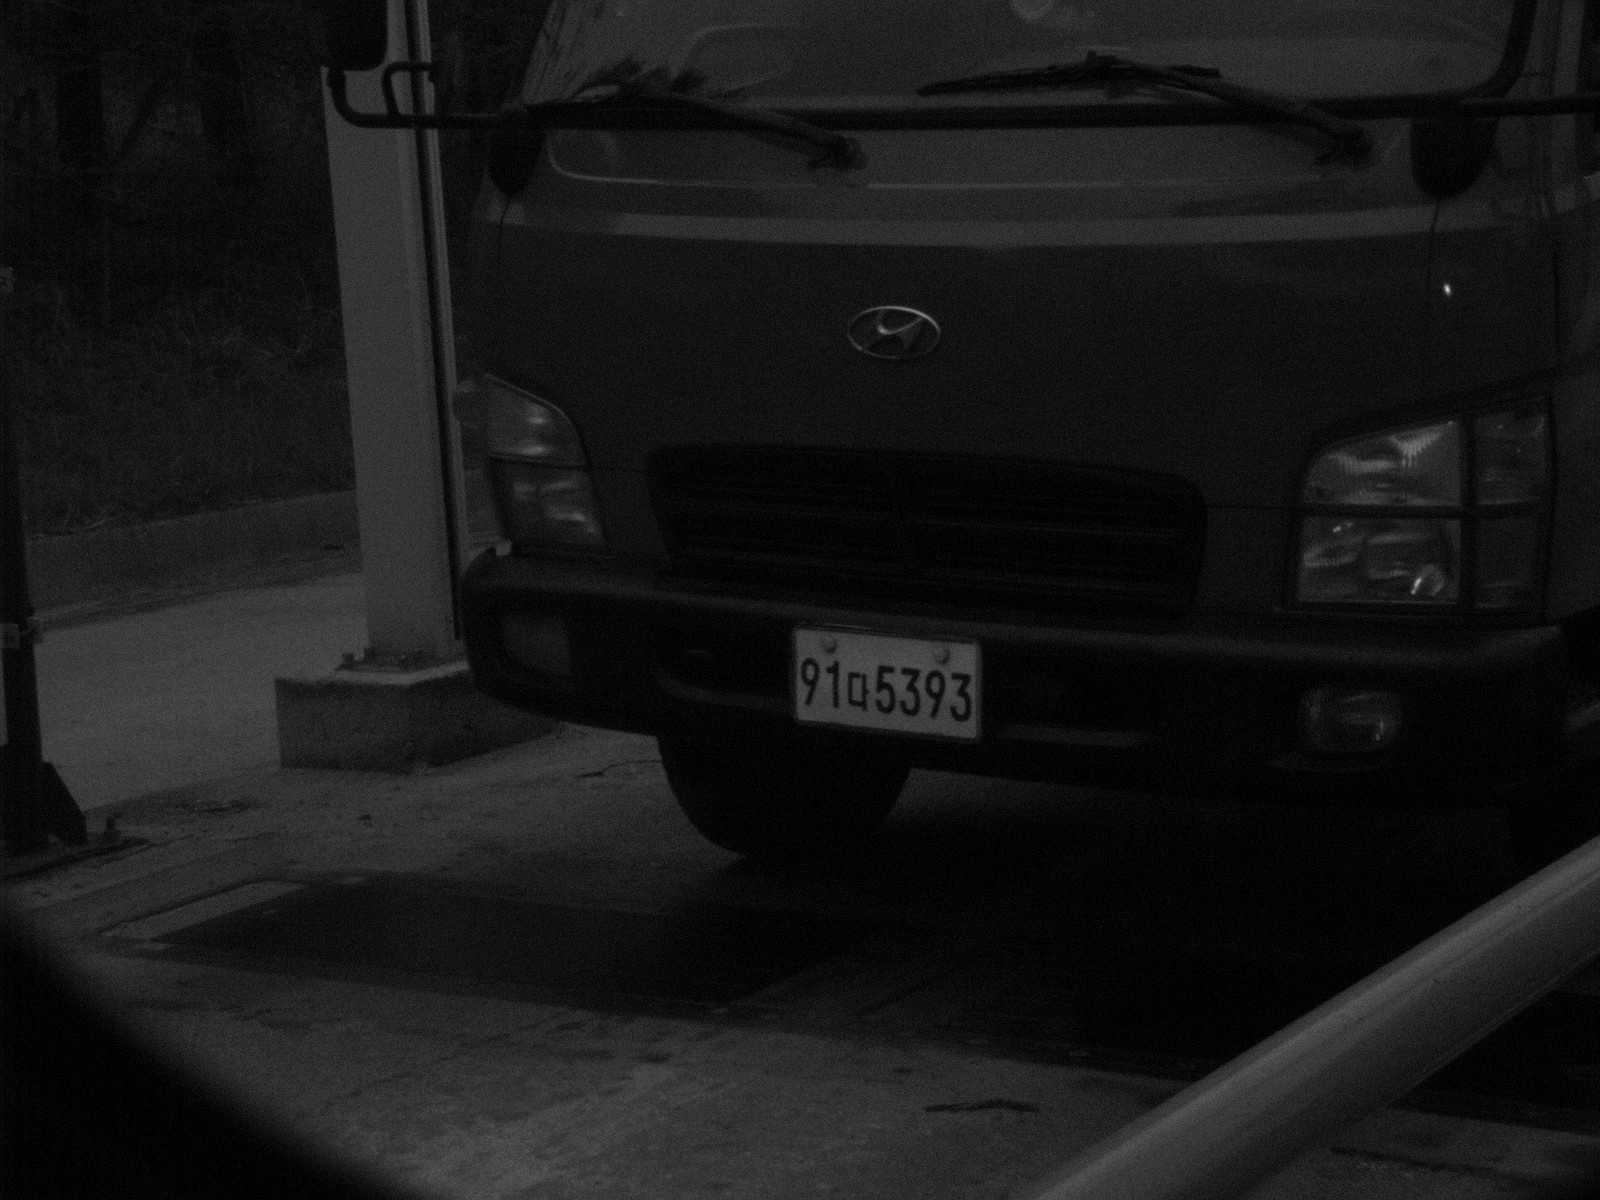car: (308, 1, 1598, 870)
plate: (787, 619, 990, 747)
